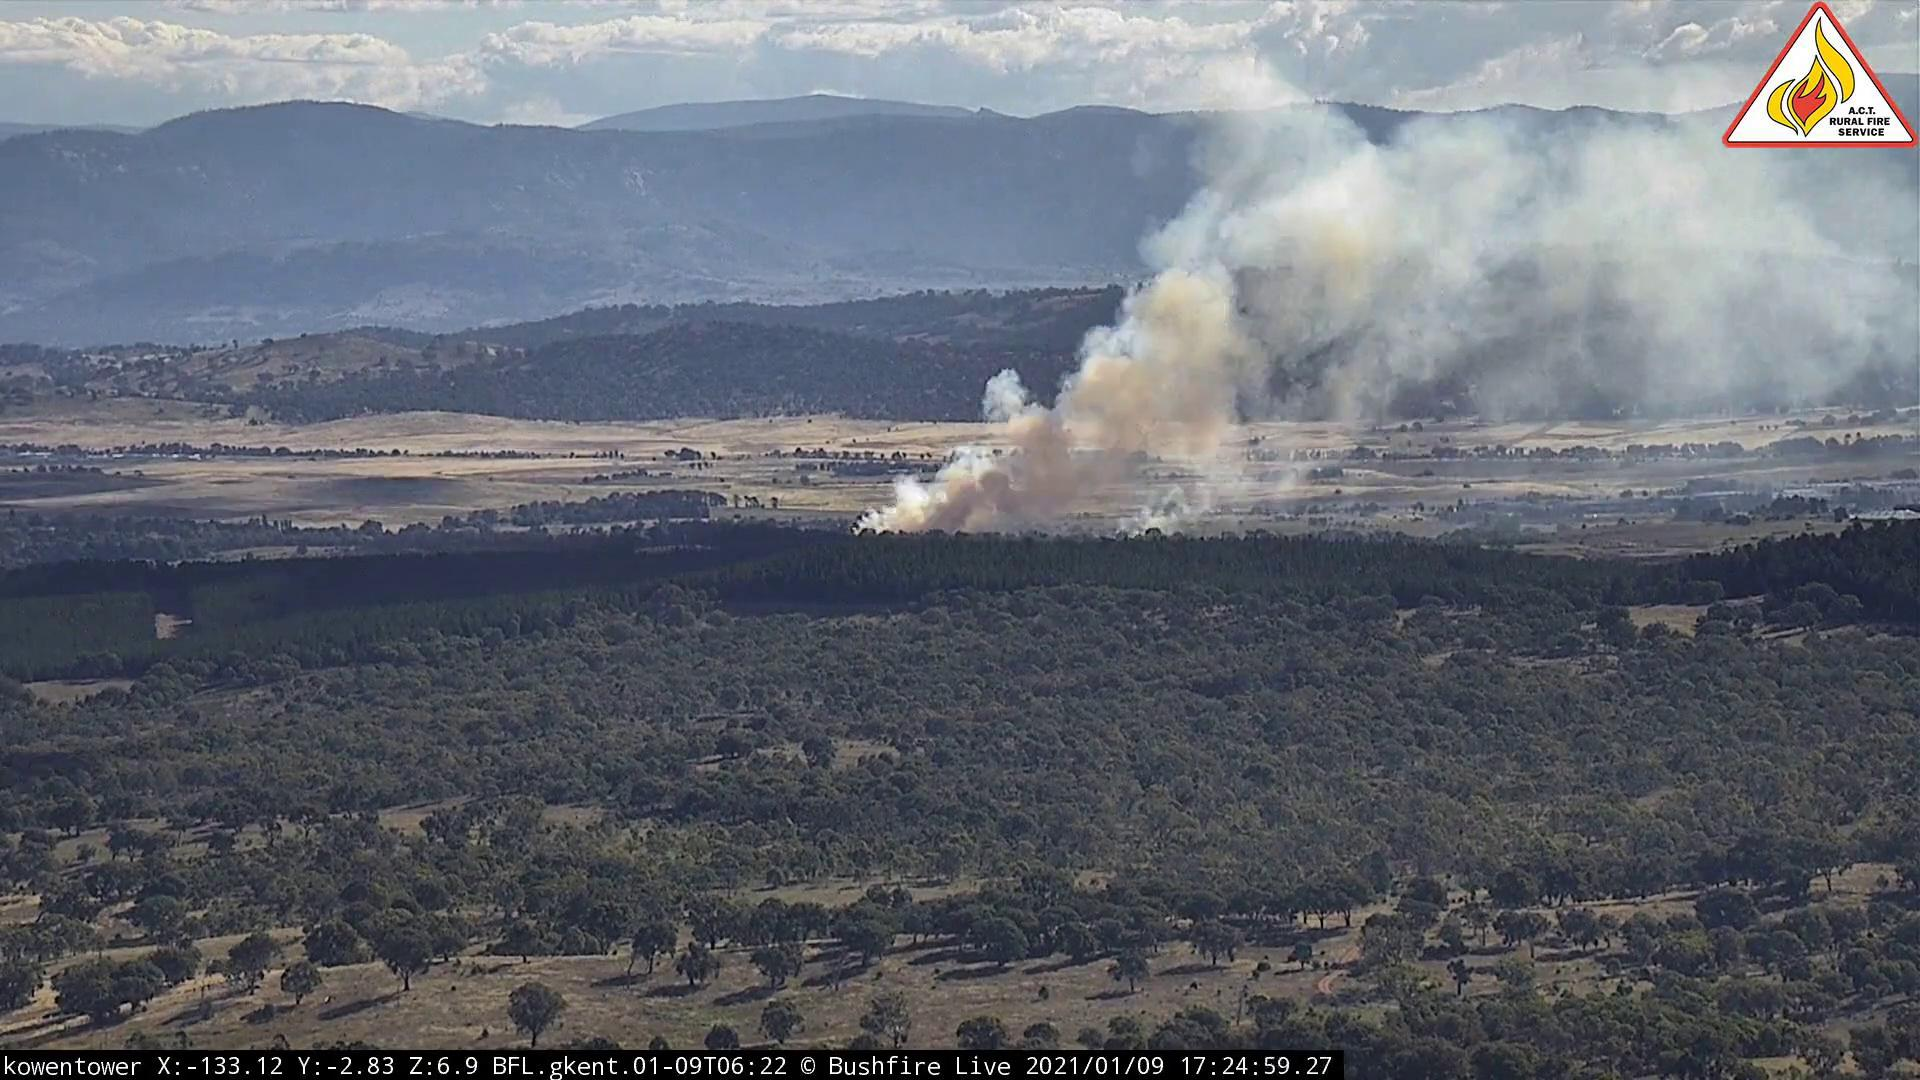Smoke: (851, 57, 1724, 545)
